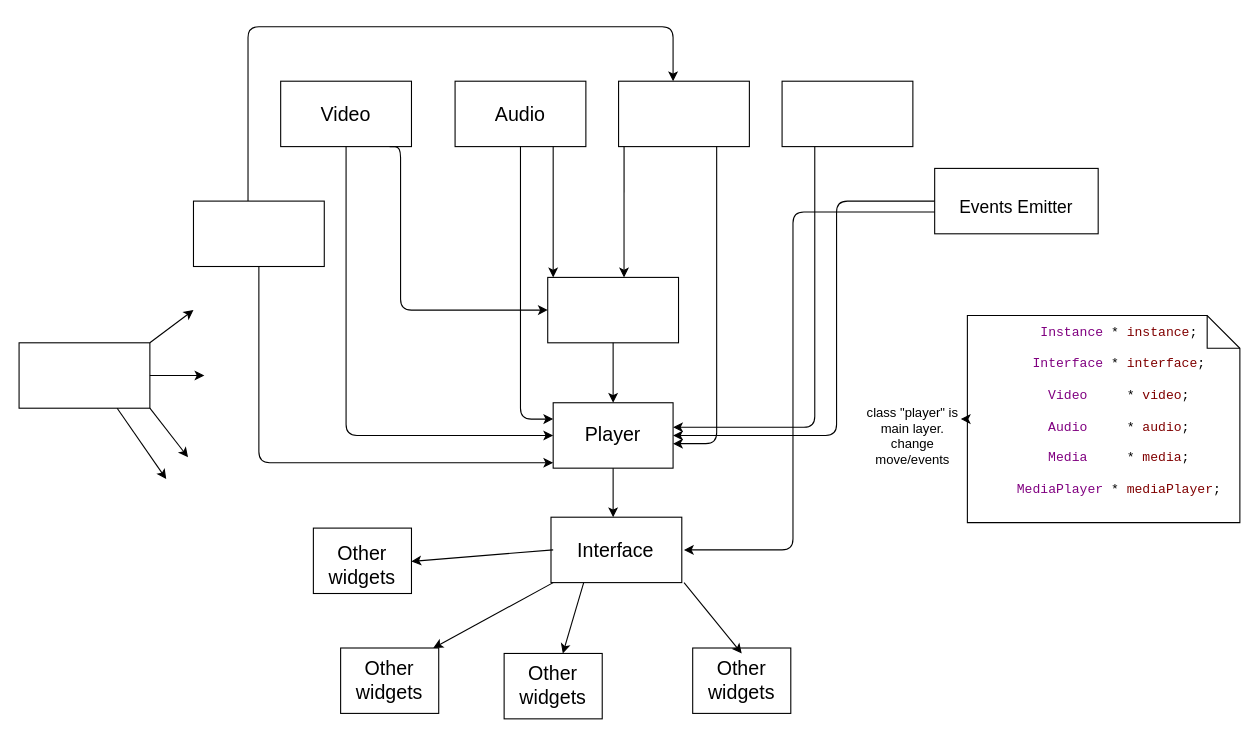
The diagram is 1259 pixels wide and 743 high, and some of its shapes have lost their labels. The centre of each missing label's shape, as x and y in pixels:
ERROR: pixel 84 375
Filters: pixel 258 233
Instance: pixel 683 113
Media: pixel 847 113
MediaPlayer: pixel 613 309
